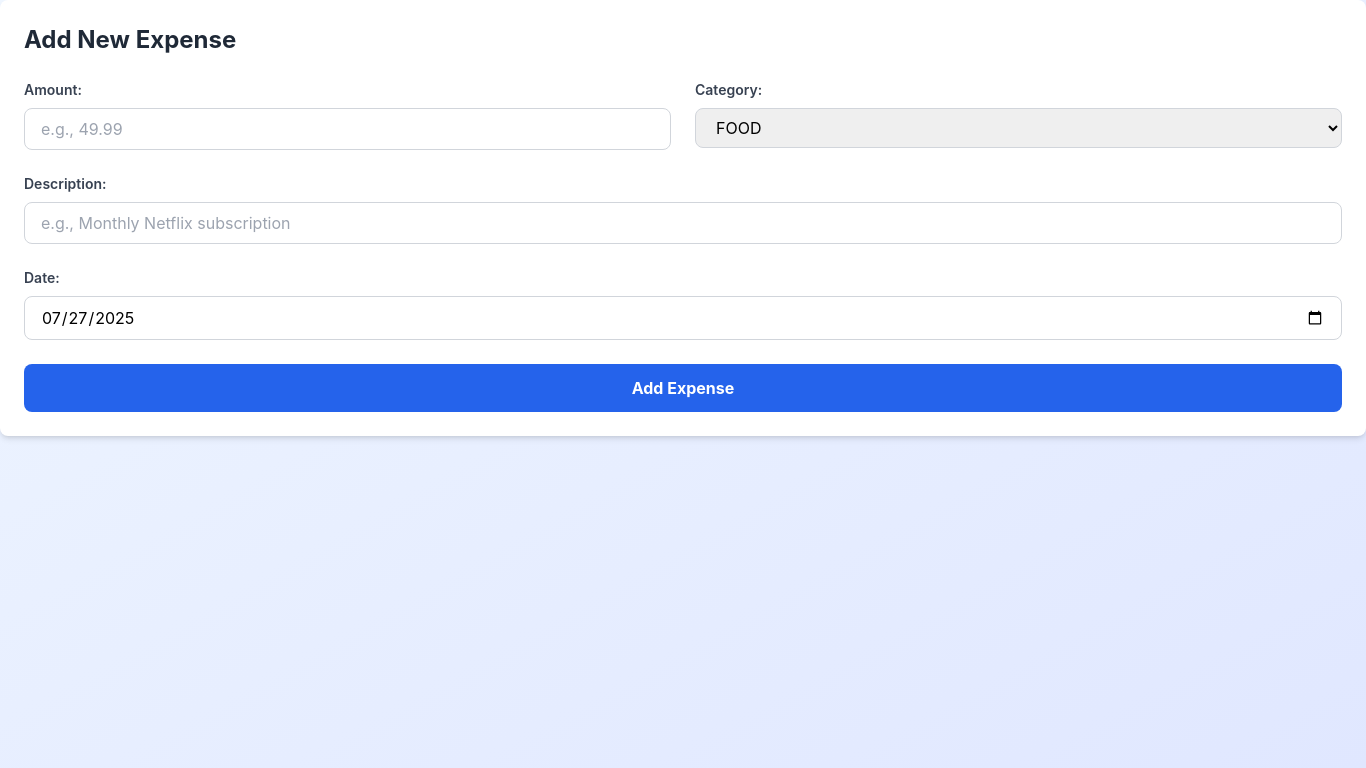
Test case: ExpenseForm › shows validation errors for empty description
Type "10.00" into the number field labelled "Amount:" at (348, 129), box x1=24 y1=108 x2=671 y2=150
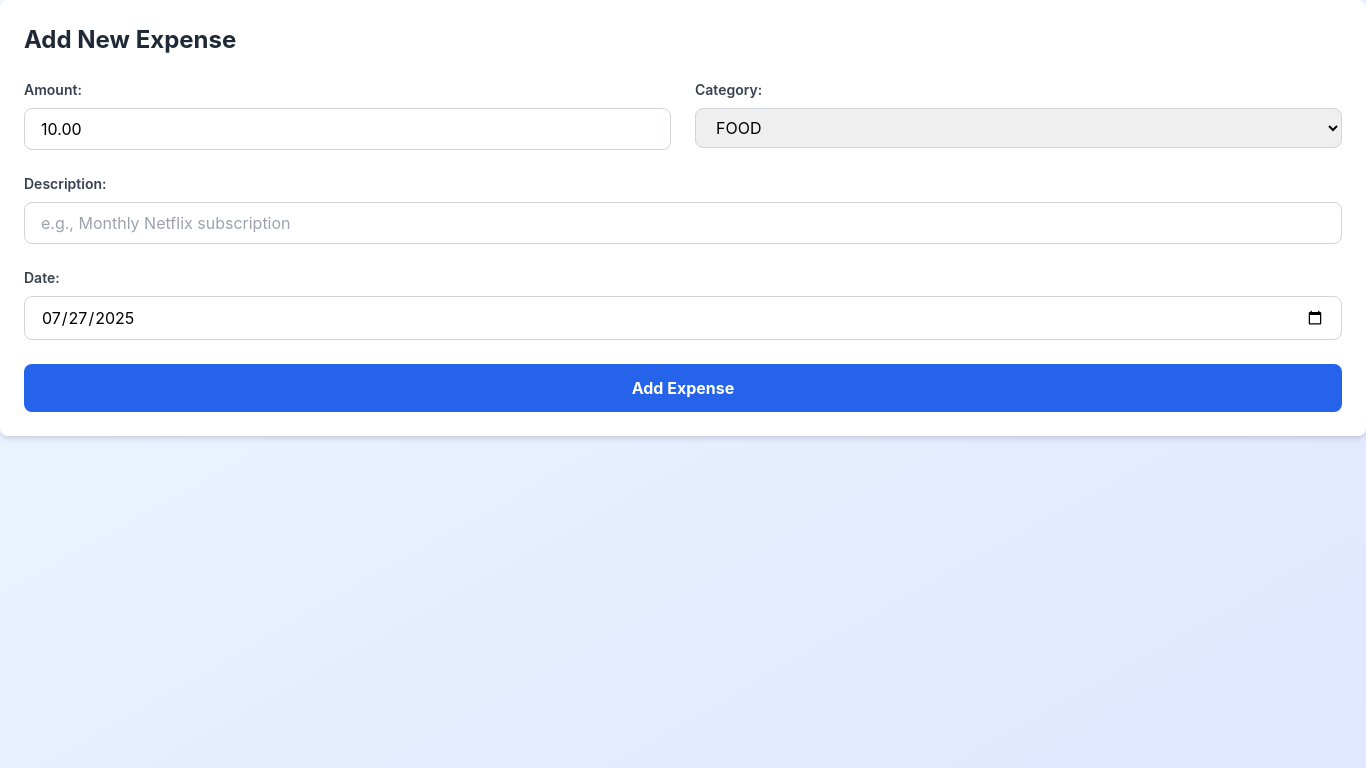
Click the button "Add Expense" at (683, 388), box x1=24 y1=364 x2=1342 y2=412
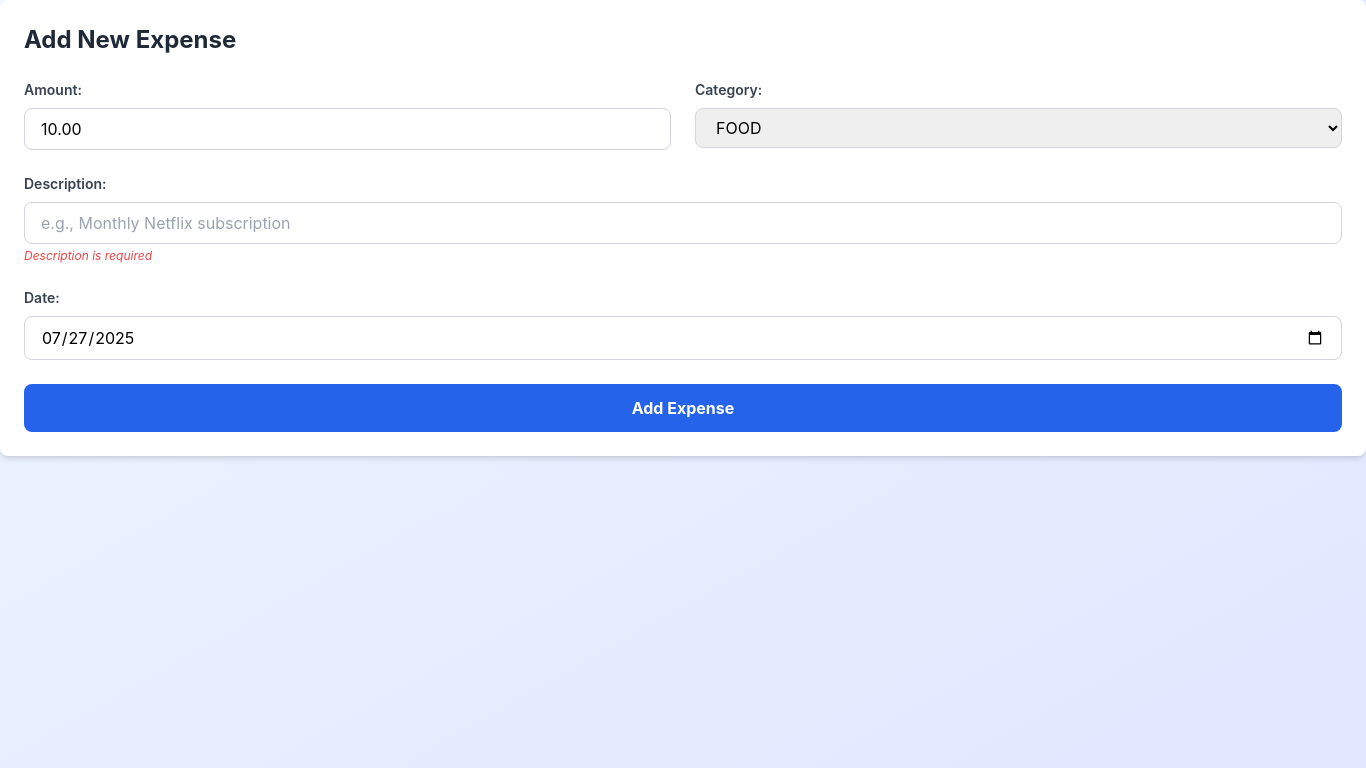
Expected: the text "Description is required" is shown, x1=24 y1=248 x2=152 y2=263
